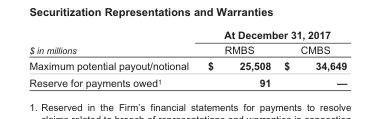table: (28, 28, 346, 88)
table column: (28, 28, 197, 88), (197, 28, 276, 88), (276, 28, 346, 88)
table column header: (28, 28, 346, 57)
table row: (28, 41, 346, 57), (28, 57, 346, 73), (28, 73, 346, 88), (28, 28, 346, 41)
table spanning cell: (28, 28, 197, 57), (197, 28, 346, 41)
